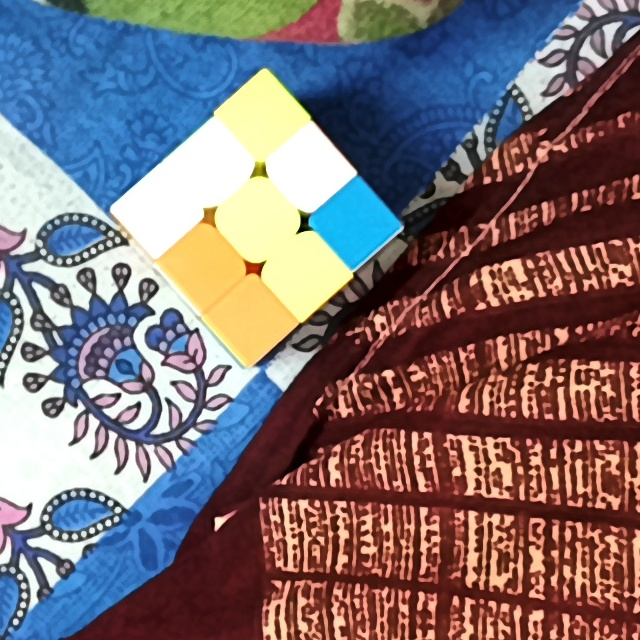tile: (234, 192, 282, 245), (185, 140, 229, 192), (239, 96, 290, 139), (333, 202, 381, 246), (287, 150, 333, 194), (230, 298, 275, 342), (285, 250, 324, 297), (132, 194, 174, 236), (183, 247, 227, 287)
